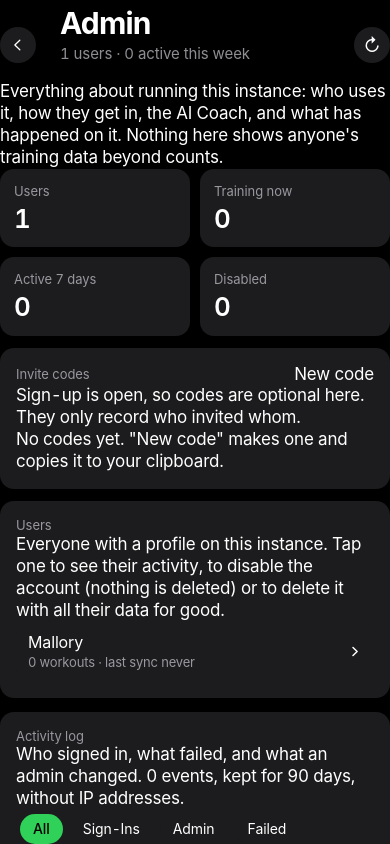
Test: Admin → Reset password › offers it to a profile with no password too
Click the element showing "Mallory 0 workouts · last sync never" at (195, 652), box [16,622,374,682]
(page scrolled)
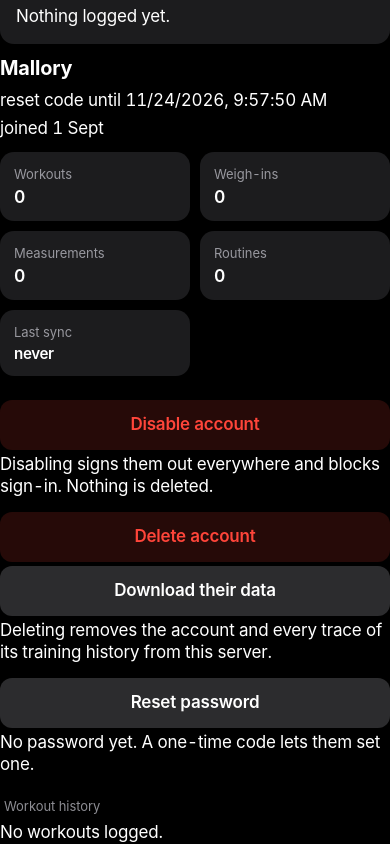
Expected: the button "Reset password" is shown, [0,678,389,728]
Expected: the text "lets them set one" is shown, [0,732,380,774]
Expected: the text "reset code until" is shown, [0,90,125,110]
